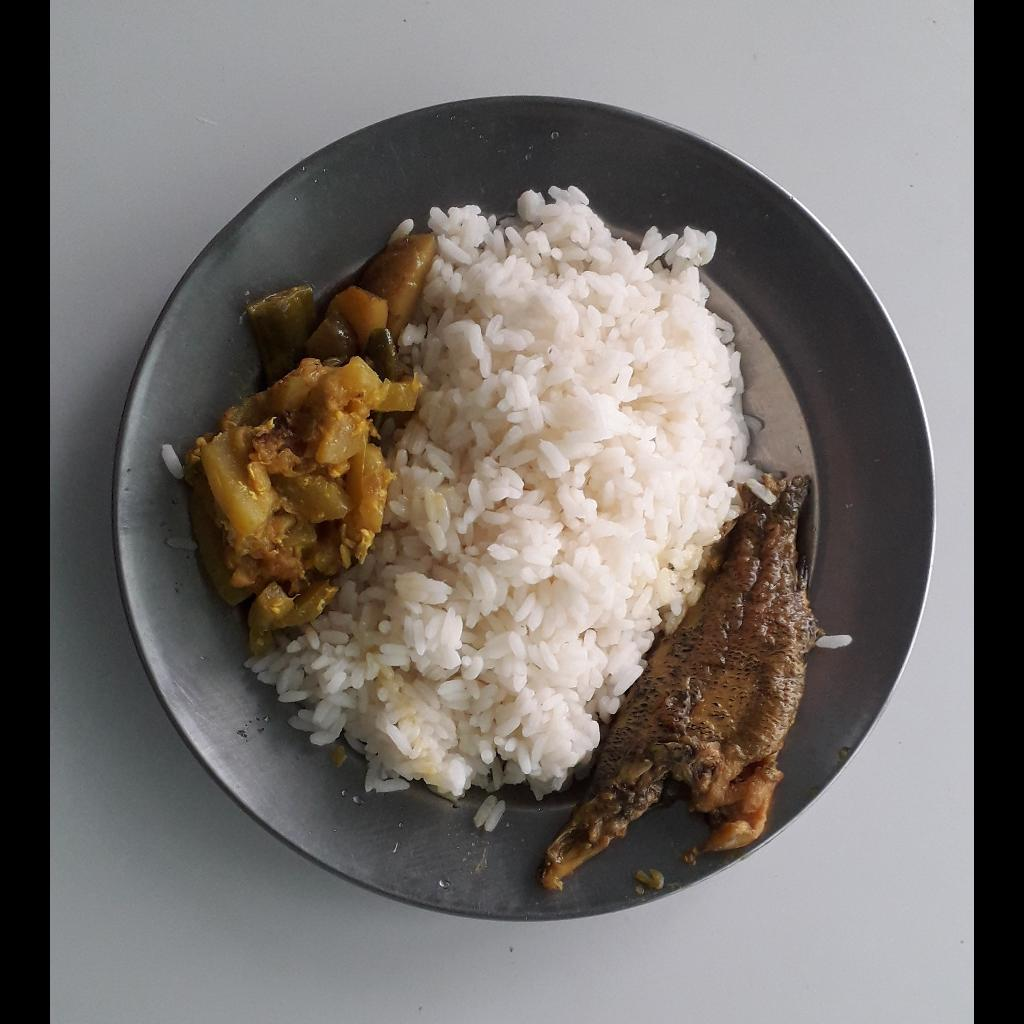fish: (541, 471, 819, 890)
lau: (181, 358, 422, 648)
potato: (321, 228, 441, 357)
rice: (243, 178, 778, 830)
shim: (247, 284, 400, 378)
